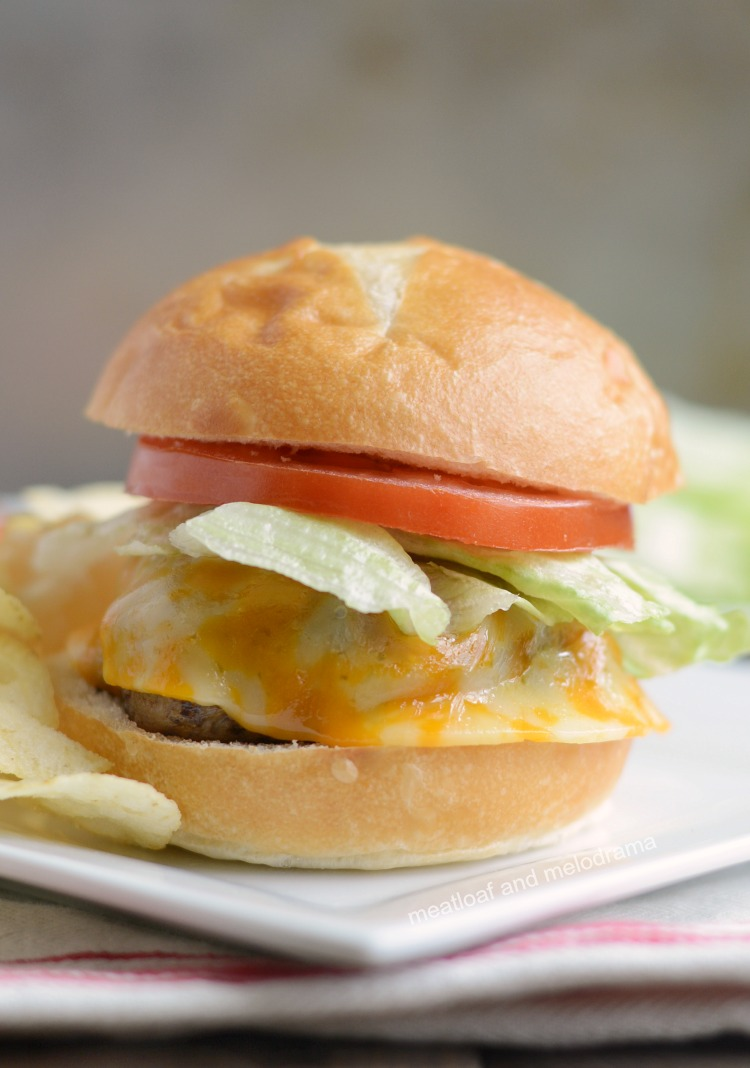hamburger_buns: (46, 209, 686, 877)
